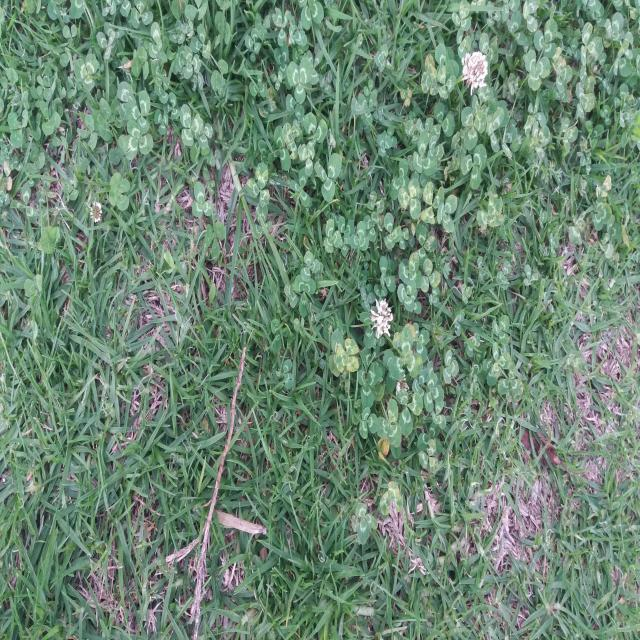Four Leaf Clover: (380, 481, 403, 515)
